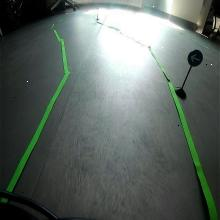left: (188, 50, 204, 67)
